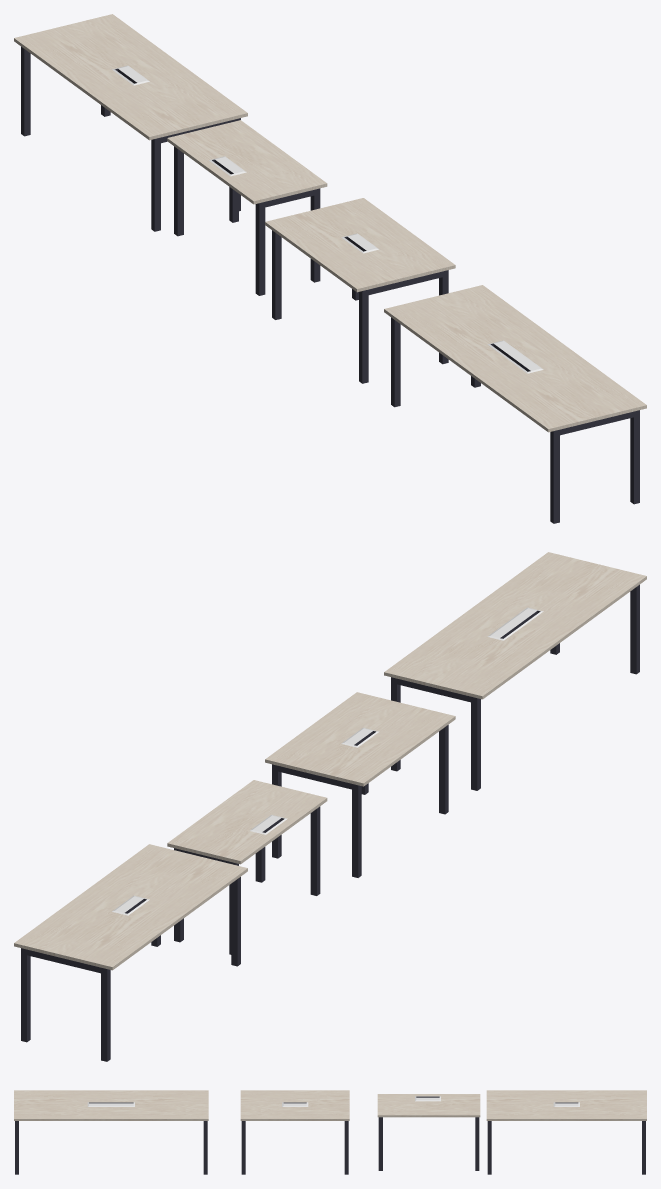
Rendered from LibraryTable.fbx.
3 renders of one model, top to bottom at view 1: azimuth 30°, elevation 25°; view 2: azimuth 150°, elevation 25°; view 3: azimuth 270°, elevation 25°, orthographic. The views are drawn at different scales.
Visible parts, largest first — view 1: LibraryTableLong, LibraryTableMedium, LibraryTableShort_1, LibraryTableShort_2; view 2: LibraryTableLong, LibraryTableMedium, LibraryTableShort_1, LibraryTableShort_2; view 3: LibraryTableLong, LibraryTableMedium, LibraryTableShort_1, LibraryTableShort_2.
Boxes of the visible parts, <box> form: LibraryTableLong: <box>384,285,646,523</box>; LibraryTableMedium: <box>14,14,247,231</box>; LibraryTableShort_1: <box>265,198,455,383</box>; LibraryTableShort_2: <box>167,120,327,295</box>; LibraryTableLong: <box>384,552,646,790</box>; LibraryTableMedium: <box>14,844,247,1061</box>; LibraryTableShort_1: <box>265,692,455,877</box>; LibraryTableShort_2: <box>167,780,327,954</box>; LibraryTableLong: <box>14,1090,208,1174</box>; LibraryTableMedium: <box>486,1090,646,1174</box>; LibraryTableShort_1: <box>240,1090,349,1174</box>; LibraryTableShort_2: <box>377,1094,480,1170</box>.
Bounding box in the file's own units: 80 × 75.44 × 751.
